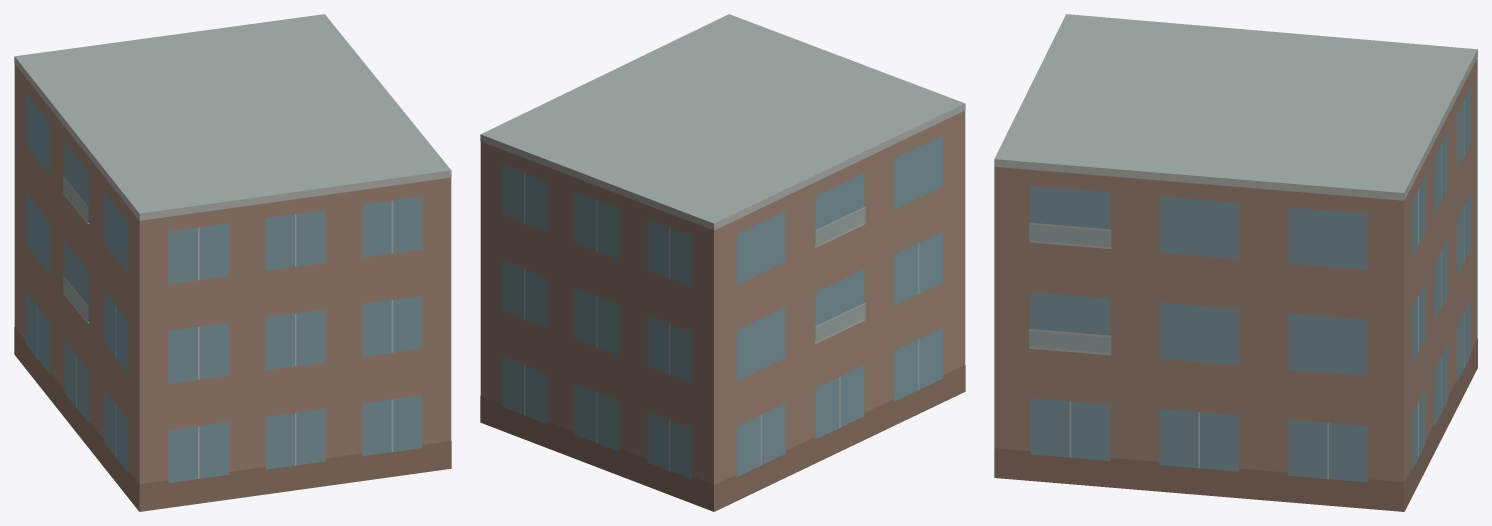
The model's file is survey-upis-32653308.glb.
3 views of the same model, side by side, from view 1: azimuth 30°, elevation 25°; view 2: azimuth 150°, elevation 25°; view 3: azimuth 270°, elevation 25° (orthographic). The views are drawn at different scales.
Parts seen in each view (by area): view 1: survey-upis-32653308.tmp; view 2: survey-upis-32653308.tmp; view 3: survey-upis-32653308.tmp.
Part boxes in pixels (x1,y1,x2,y2): survey-upis-32653308.tmp: [14, 14, 451, 511]; survey-upis-32653308.tmp: [480, 14, 965, 511]; survey-upis-32653308.tmp: [994, 14, 1477, 511].
Size of the model in its own units: 12.31 by 10.2 by 14.04.
